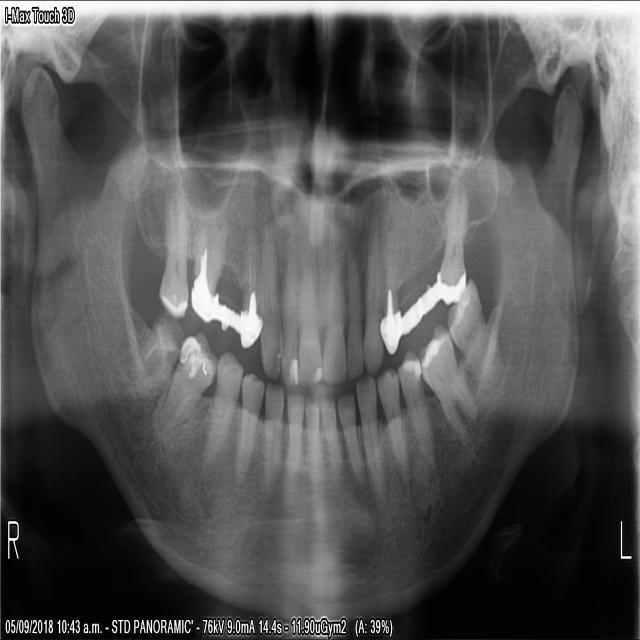LCD: (353, 375, 387, 507)
LCU: (362, 246, 382, 376)
LID: (333, 388, 368, 491), (319, 397, 343, 466)
LIU: (320, 234, 345, 384), (342, 248, 364, 382)
LMD: (440, 271, 502, 393), (418, 323, 479, 446)
LMU: (433, 186, 469, 305)
LPMD: (373, 362, 412, 490), (394, 344, 435, 461)
RCD: (259, 379, 284, 491)
RCU: (257, 227, 281, 375)
RID: (278, 388, 304, 486), (303, 392, 321, 463)
RIU: (296, 246, 321, 387), (278, 242, 298, 390)
RMD: (158, 326, 219, 435), (132, 304, 184, 401)
RMU: (155, 202, 187, 316)
RPMD: (200, 346, 244, 468), (229, 365, 266, 488)
RPMU: (238, 216, 261, 350)
